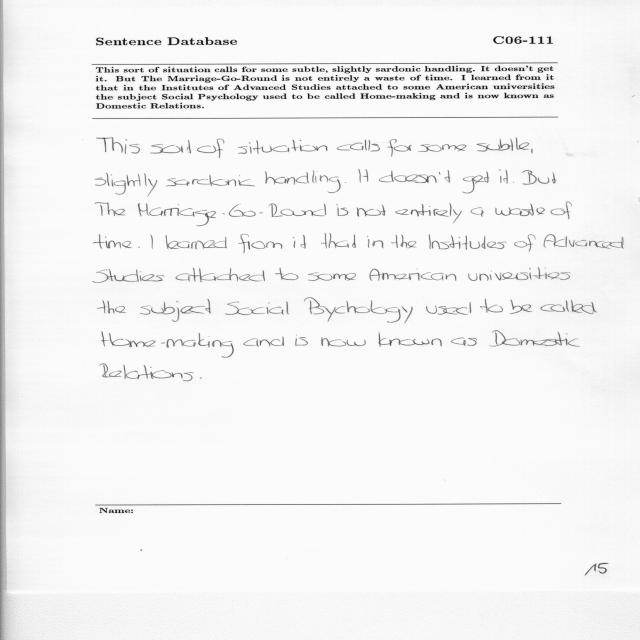word: (138, 203, 326, 226), (102, 331, 234, 358), (304, 298, 413, 323), (265, 171, 340, 194), (100, 363, 194, 381), (140, 299, 211, 322), (489, 330, 580, 347), (469, 267, 571, 281), (96, 173, 157, 196), (395, 204, 462, 224), (175, 268, 265, 282), (238, 140, 327, 154), (429, 234, 506, 250), (543, 234, 624, 249), (370, 268, 457, 281), (166, 175, 255, 187), (93, 269, 164, 283), (378, 332, 442, 347), (379, 170, 450, 183), (165, 235, 227, 249), (239, 234, 283, 253), (225, 302, 289, 315), (541, 300, 597, 314), (96, 137, 140, 154), (477, 138, 529, 152), (495, 204, 545, 216), (463, 172, 490, 194), (426, 302, 471, 315), (150, 140, 191, 154), (321, 233, 356, 249), (93, 234, 132, 248), (337, 140, 380, 152), (197, 139, 224, 158), (523, 170, 557, 185), (387, 139, 412, 157), (321, 337, 366, 347), (308, 272, 356, 281), (96, 202, 126, 216), (243, 337, 284, 347), (98, 300, 126, 314), (418, 144, 466, 152), (514, 234, 535, 252), (551, 202, 572, 219), (357, 205, 386, 217), (391, 235, 417, 248), (510, 299, 532, 314), (480, 299, 503, 313), (275, 267, 298, 280), (451, 337, 477, 346), (367, 236, 384, 248), (293, 235, 307, 248), (337, 204, 349, 216), (295, 335, 308, 346), (358, 169, 368, 183), (499, 169, 508, 184), (471, 208, 484, 217), (150, 235, 153, 249), (531, 149, 533, 154), (138, 246, 140, 248), (199, 378, 202, 379), (345, 182, 346, 183), (513, 182, 514, 183)
